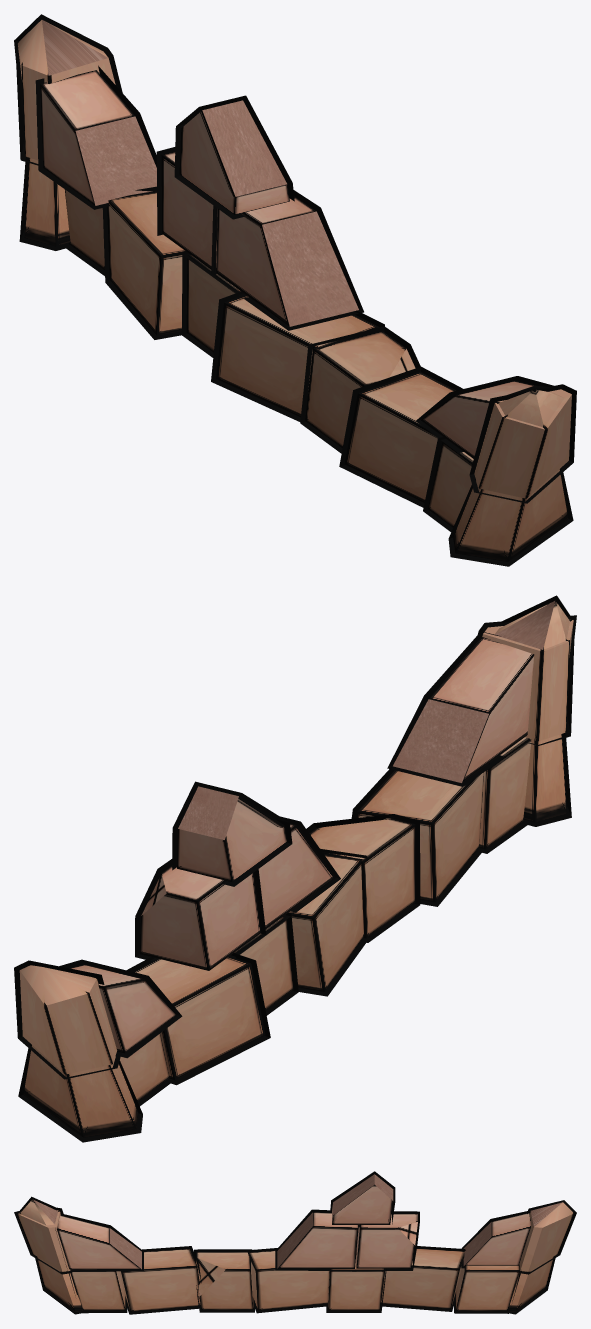
The model's file is normal_wall_state02.FBX.
3 renders of one model, top to bottom at view 1: azimuth 30°, elevation 25°; view 2: azimuth 150°, elevation 25°; view 3: azimuth 270°, elevation 25°, orthographic. The views are drawn at different scales.
Visible parts, largest first — view 1: Box103, Box104; view 2: Box103, Box104; view 3: Box103, Box104.
Part boxes in pixels (x1,y1,x2,y2): Box103: [17, 20, 571, 561]; Box104: [14, 14, 576, 566]; Box103: [19, 600, 573, 1137]; Box104: [14, 595, 576, 1142]; Box103: [16, 1174, 573, 1312]; Box104: [14, 1171, 576, 1314].
Size of the model in its own units: 0.2893 by 0.4924 by 2.07.
4 materials, 3 textured.
